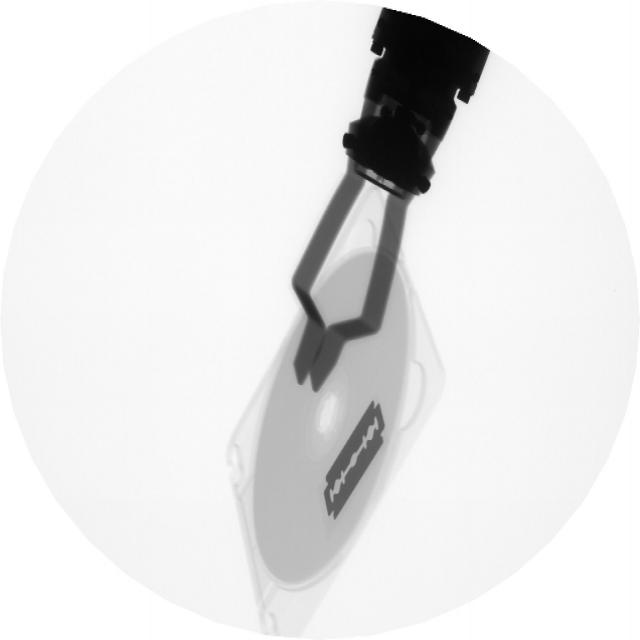BLADE: (320, 394, 393, 525)
